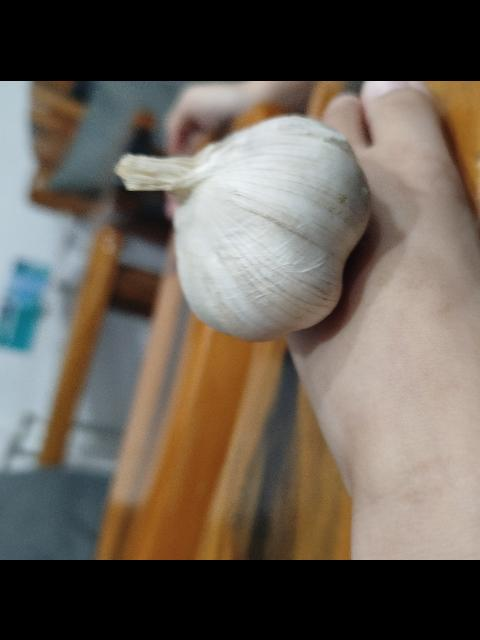garlic: (113, 112, 371, 342)
